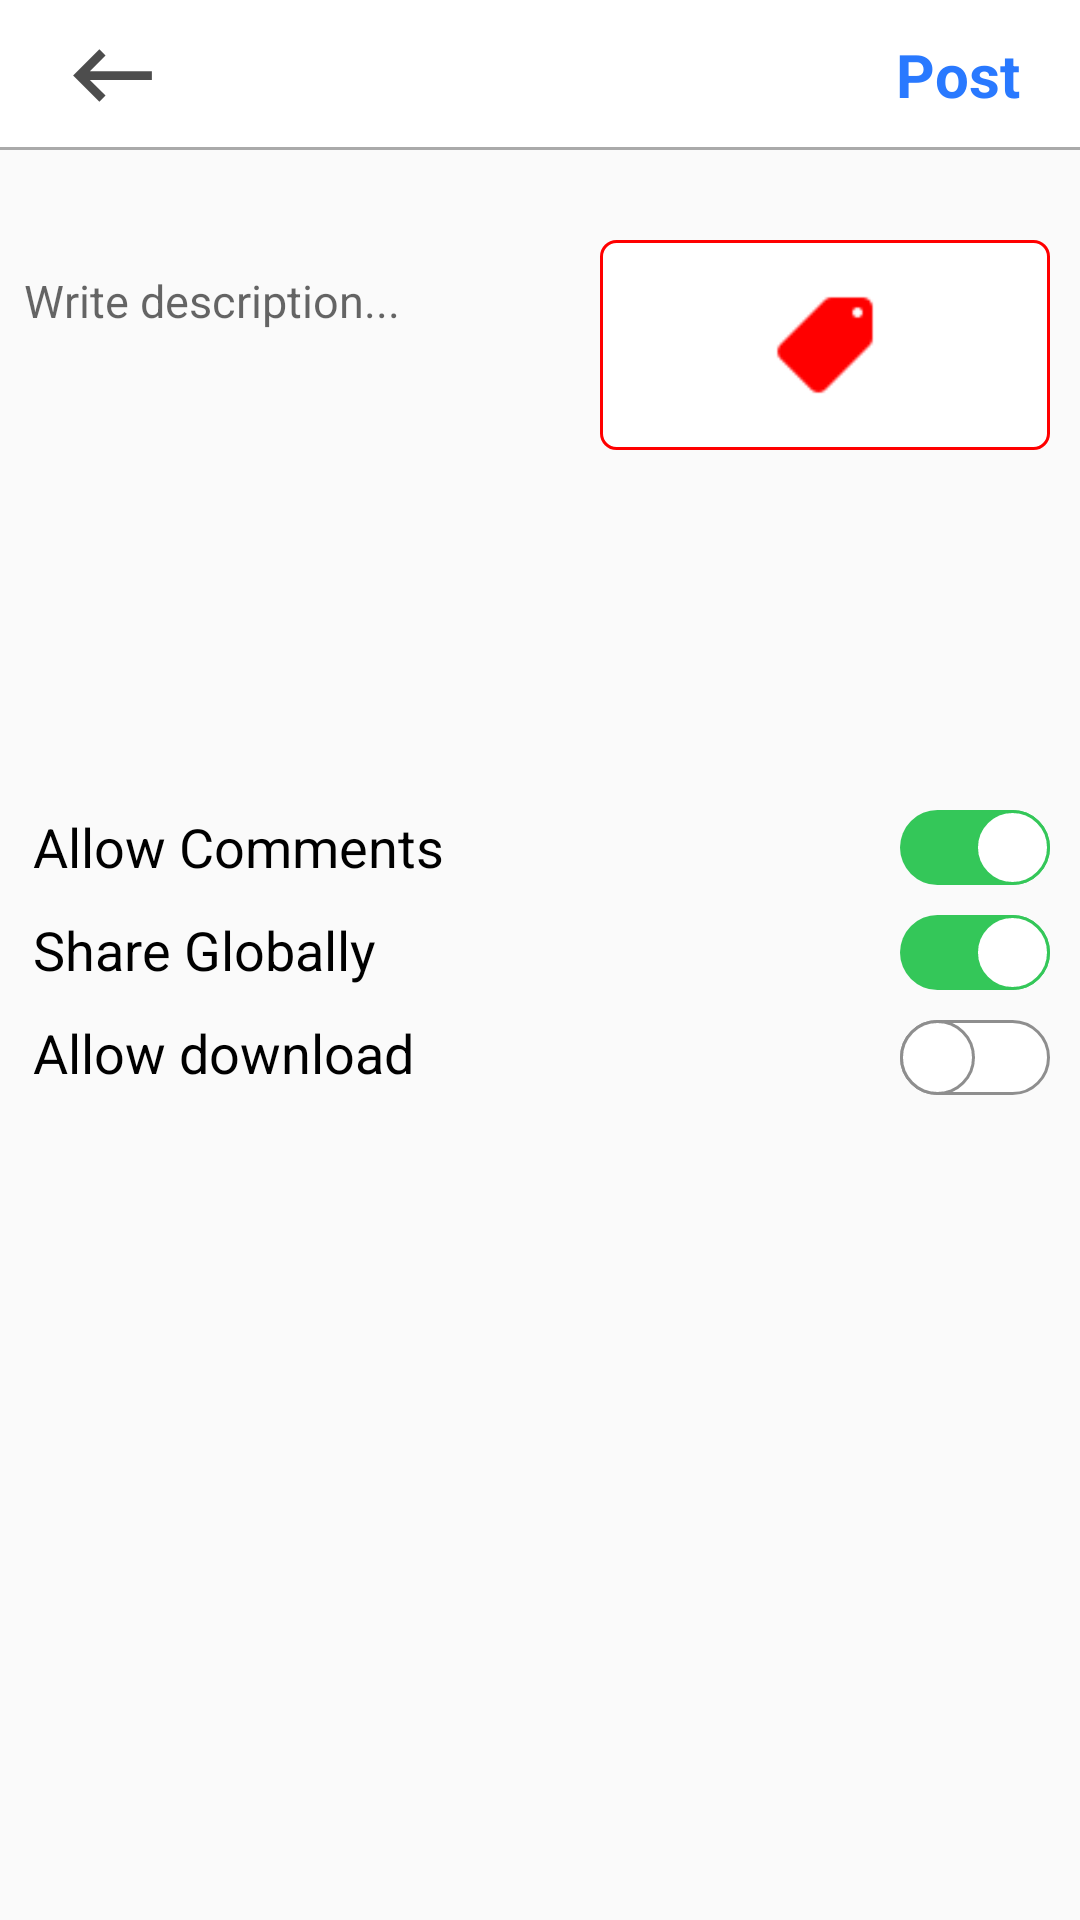

Named icons in this screenshot (1080 × 1920) and their centers, [x,y]:
back: [112,75]
